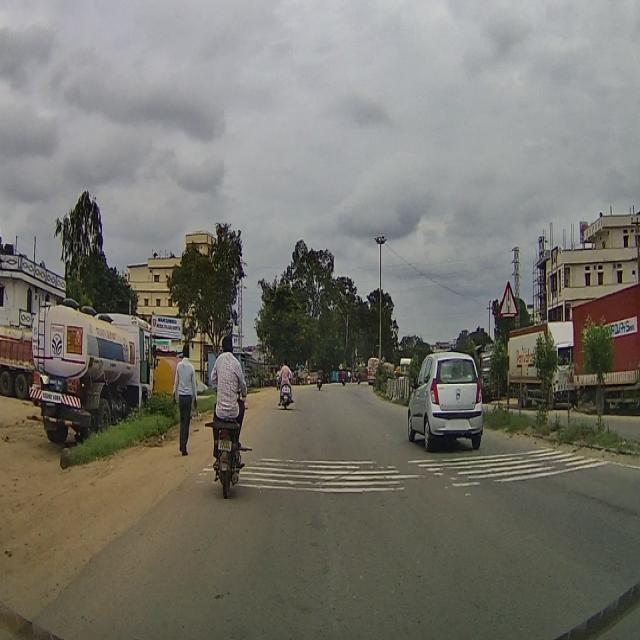gap-in-median: (499, 282, 517, 314)
